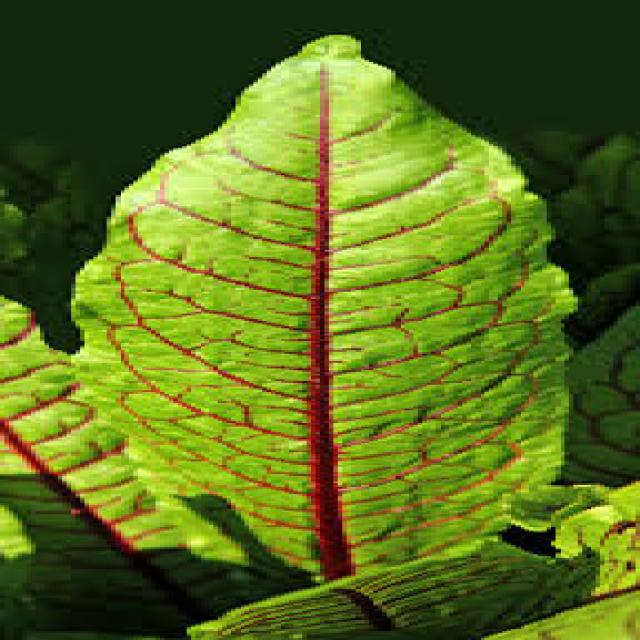organic waste: (4, 36, 640, 611)
